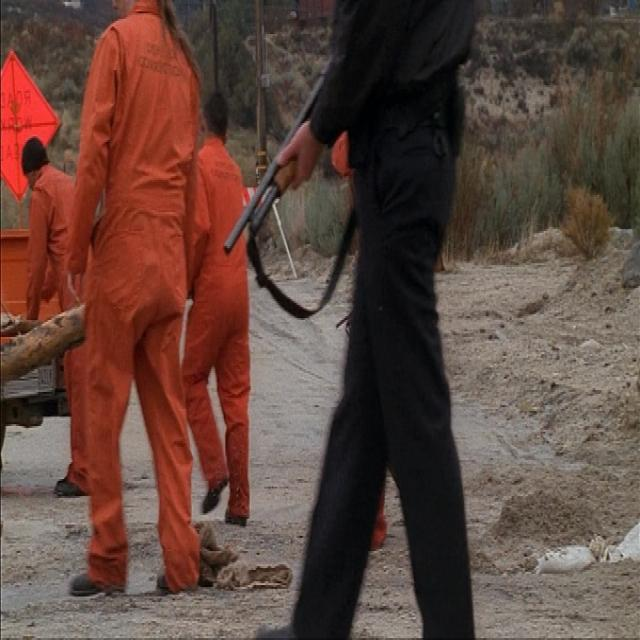rifle: (220, 52, 339, 265)
